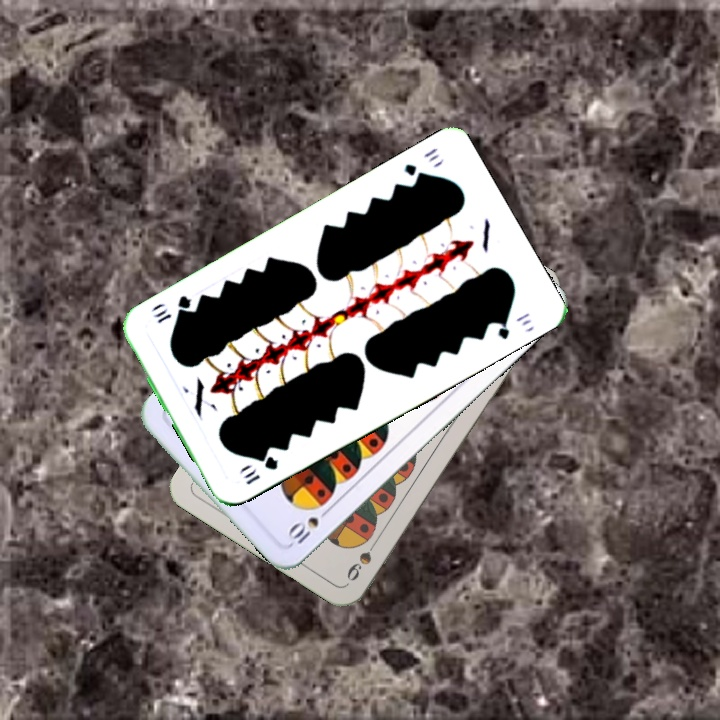G10: (400, 143, 442, 184), (238, 451, 281, 488)
S10: (283, 503, 334, 547)
S9: (342, 533, 383, 584)
